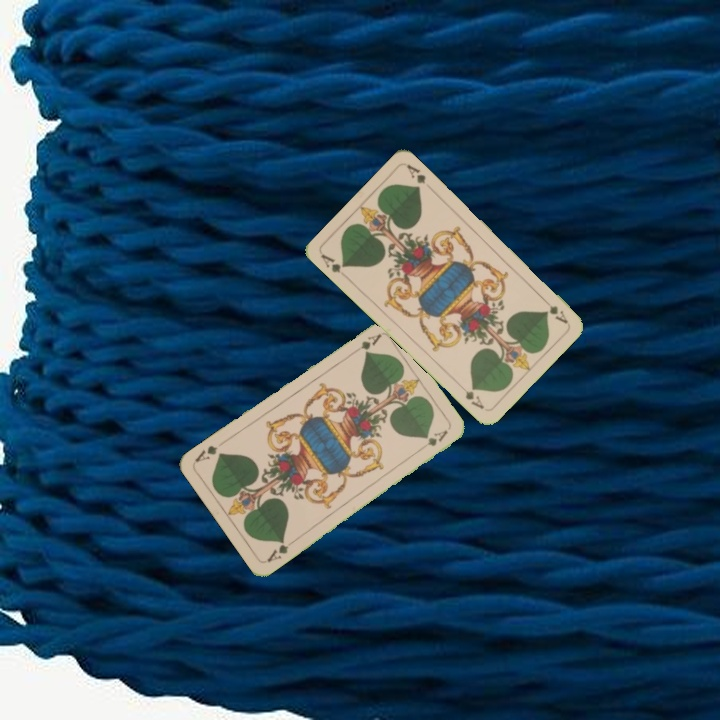GA: (538, 293, 571, 326), (347, 330, 384, 358), (263, 536, 297, 565), (317, 250, 349, 275)
